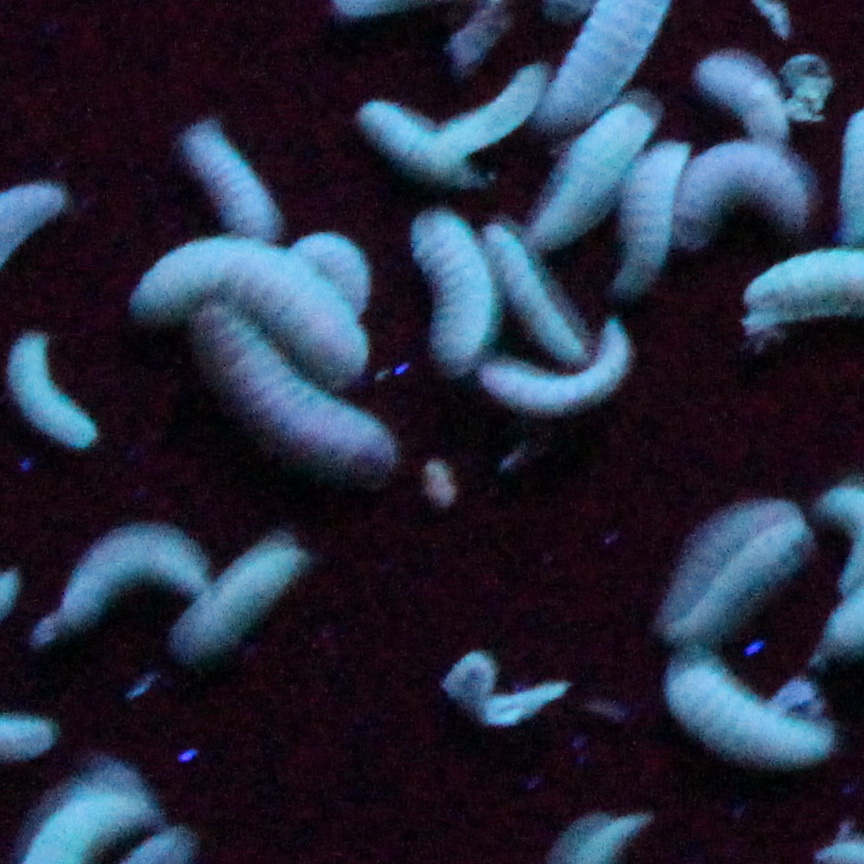larve: (193, 309, 397, 483), (133, 250, 367, 377), (663, 658, 830, 766), (673, 510, 805, 636), (532, 109, 648, 244), (406, 212, 492, 373), (675, 145, 806, 241), (67, 525, 197, 621), (195, 534, 298, 650), (180, 122, 285, 235), (497, 227, 581, 365), (9, 336, 98, 452), (616, 143, 679, 291), (490, 352, 634, 413), (366, 101, 462, 184), (449, 68, 541, 152), (702, 58, 788, 141)
